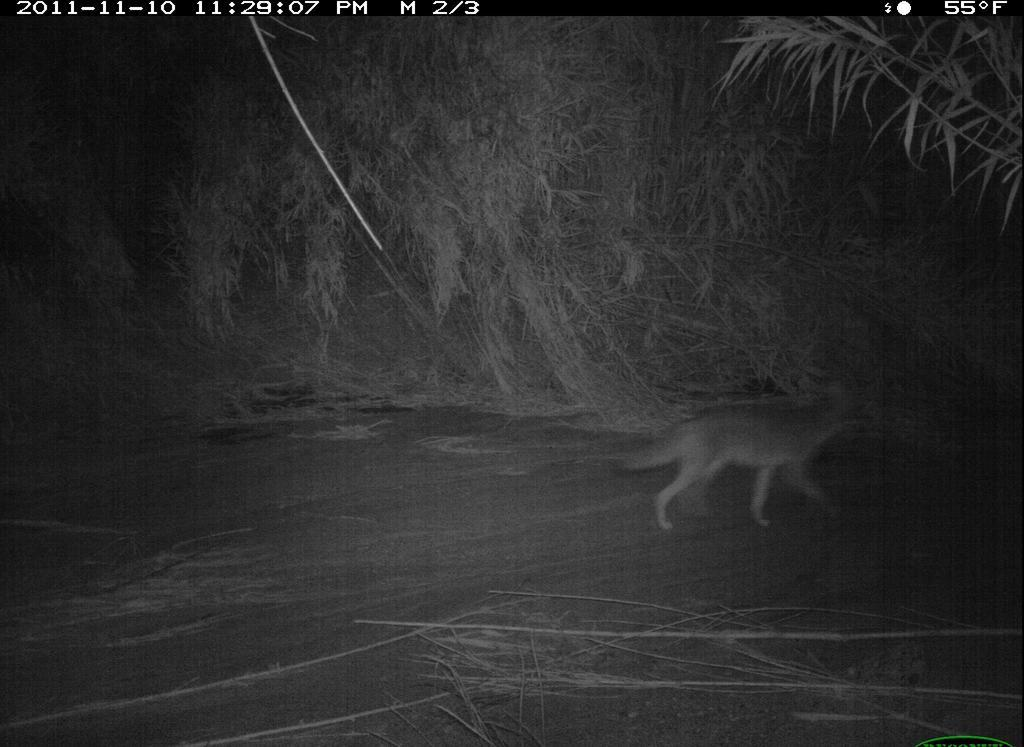coyote: (610, 373, 879, 537)
